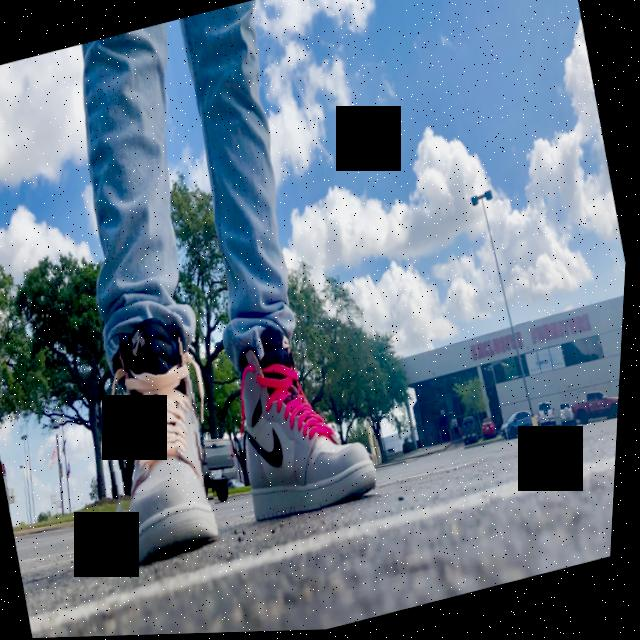shoe: (70, 310, 238, 575), (215, 305, 394, 532)
